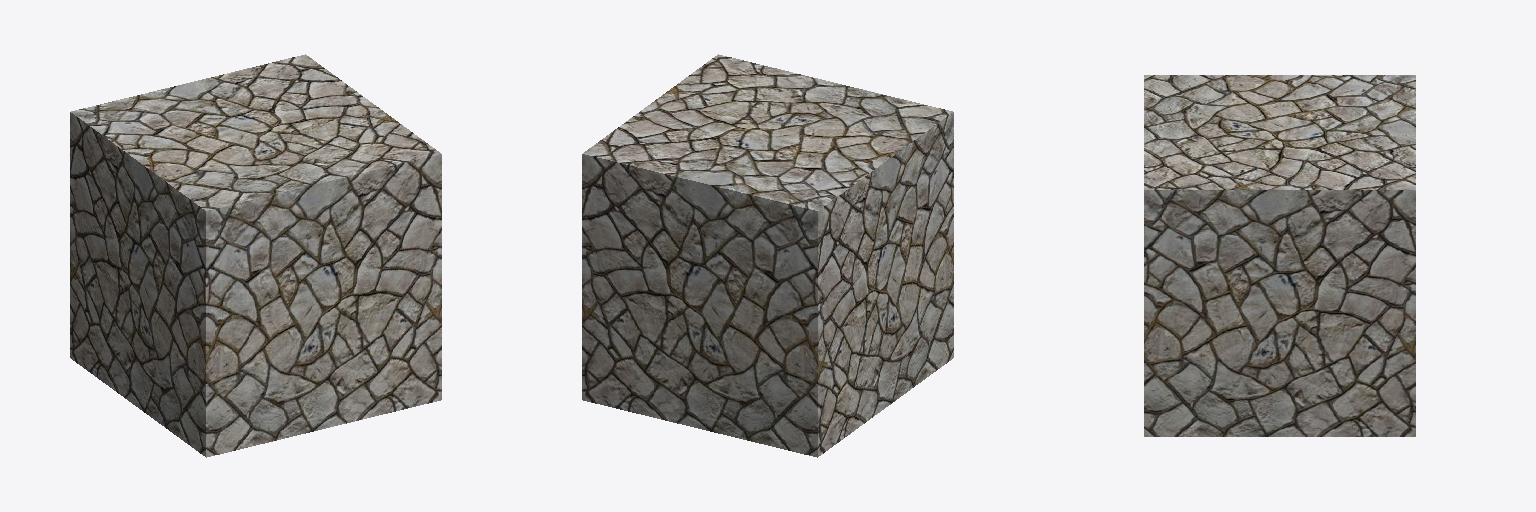
The picture shows the model from 3 angles: view 1: azimuth 30°, elevation 25°; view 2: azimuth 150°, elevation 25°; view 3: azimuth 270°, elevation 25°; orthographic projection.
Visible parts, largest first — view 1: Cube; view 2: Cube; view 3: Cube.
Boxes of the visible parts, x1=… form: Cube: x1=70, y1=54, x2=441, y2=457; Cube: x1=582, y1=54, x2=953, y2=457; Cube: x1=1144, y1=75, x2=1415, y2=436.
Bounding box in the file's own units: 2 × 2 × 2.
1 materials, 1 textured.